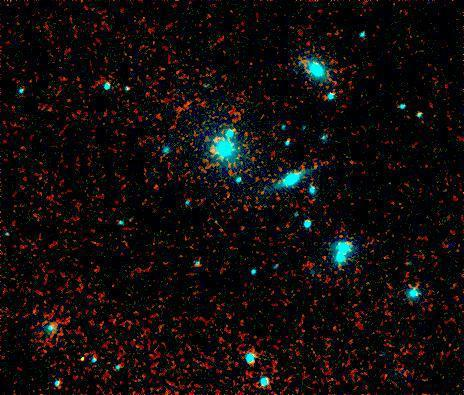star: (69, 344, 99, 374)
